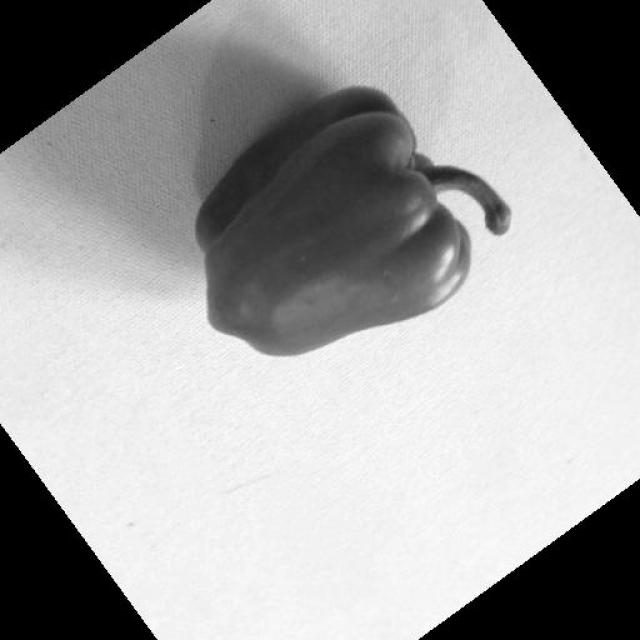Fresh_Capsicum: (167, 70, 515, 368)
